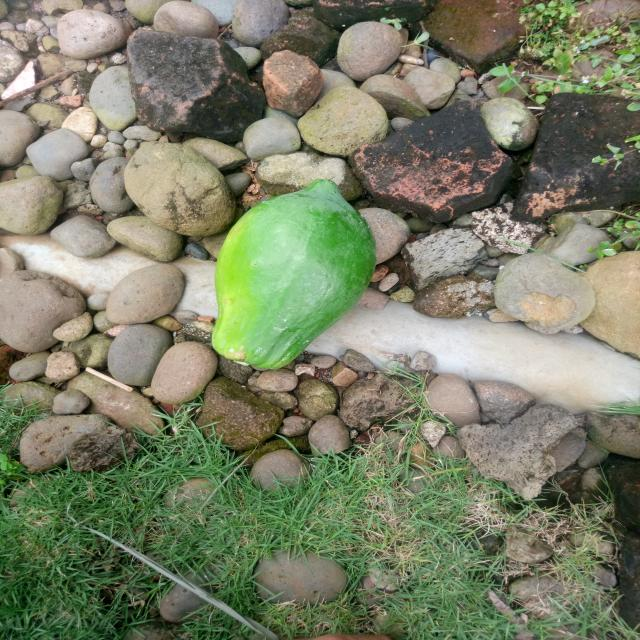Pepaya unrippen: (209, 182, 372, 374)
